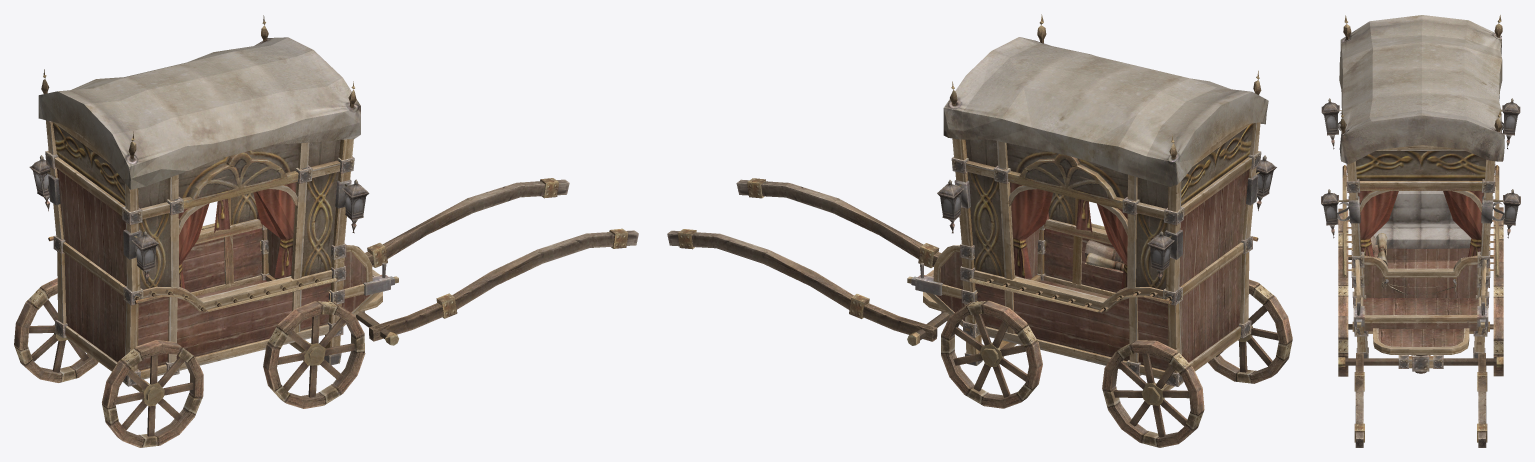
Rendered from bg_atm_leonhart_carriage01_sm_ksy.FBX.
The picture shows the model from 3 angles, left to right: view 1: azimuth 30°, elevation 25°; view 2: azimuth 150°, elevation 25°; view 3: azimuth 270°, elevation 25°; orthographic projection. The views are drawn at different scales.
Parts seen in each view (by area): view 1: bg_atm_leonhart_carriage01_sm_ksy; view 2: bg_atm_leonhart_carriage01_sm_ksy; view 3: bg_atm_leonhart_carriage01_sm_ksy.
Boxes of the visible parts, box(x1,y1,x2,y2) form: bg_atm_leonhart_carriage01_sm_ksy: box(14, 15, 638, 447); bg_atm_leonhart_carriage01_sm_ksy: box(667, 14, 1292, 447); bg_atm_leonhart_carriage01_sm_ksy: box(1321, 15, 1520, 447).
Size of the model in its own units: 462 by 258 by 167.
